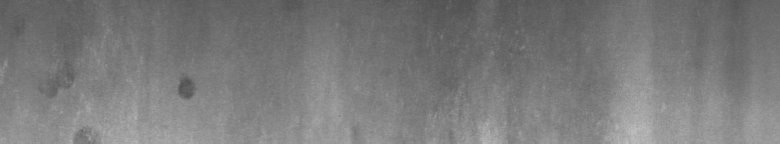fi: (176, 76, 197, 108)
